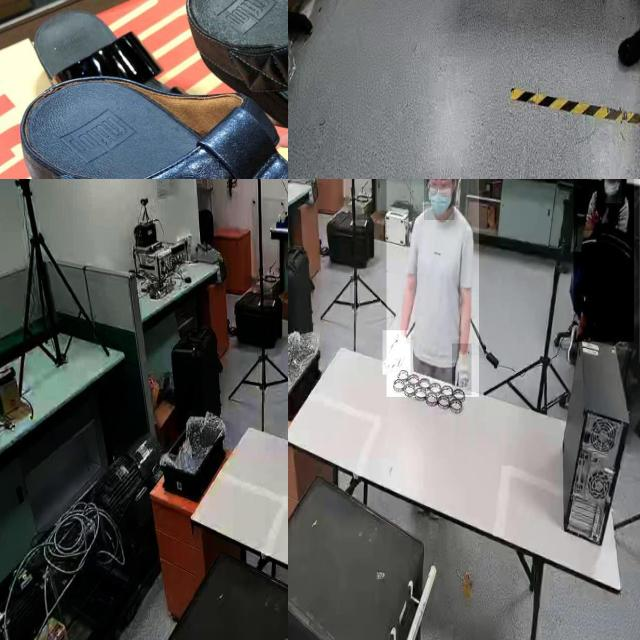Sandals: (0, 67, 288, 179), (171, 0, 288, 179)
face_mask: (423, 179, 454, 220), (604, 179, 621, 203)
hand_glove: (383, 330, 411, 376), (452, 344, 472, 396)
hand_noglove: (584, 208, 602, 232)
person: (386, 179, 479, 397), (573, 179, 634, 343)
shoes: (617, 19, 640, 73)
